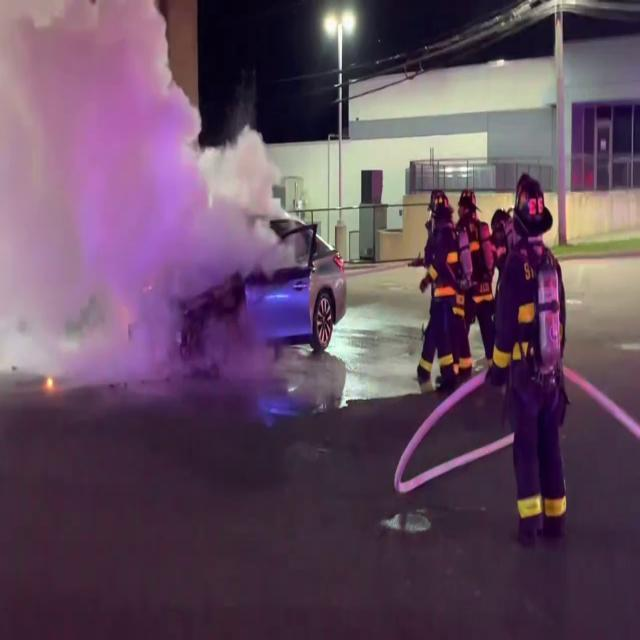Smoke: (0, 0, 276, 417)
